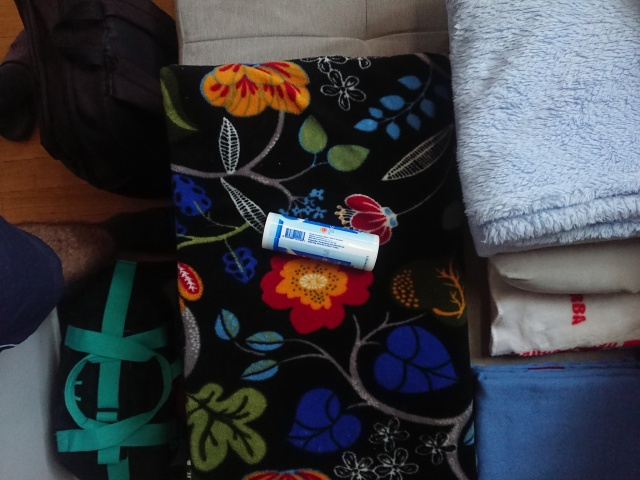Solana Pag Fine Sea Salt 250g: (258, 209, 382, 276)
